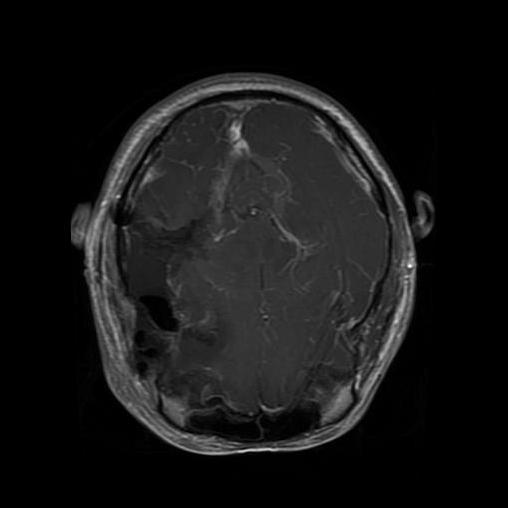Tumour-Glioma: (117, 212, 204, 382)
